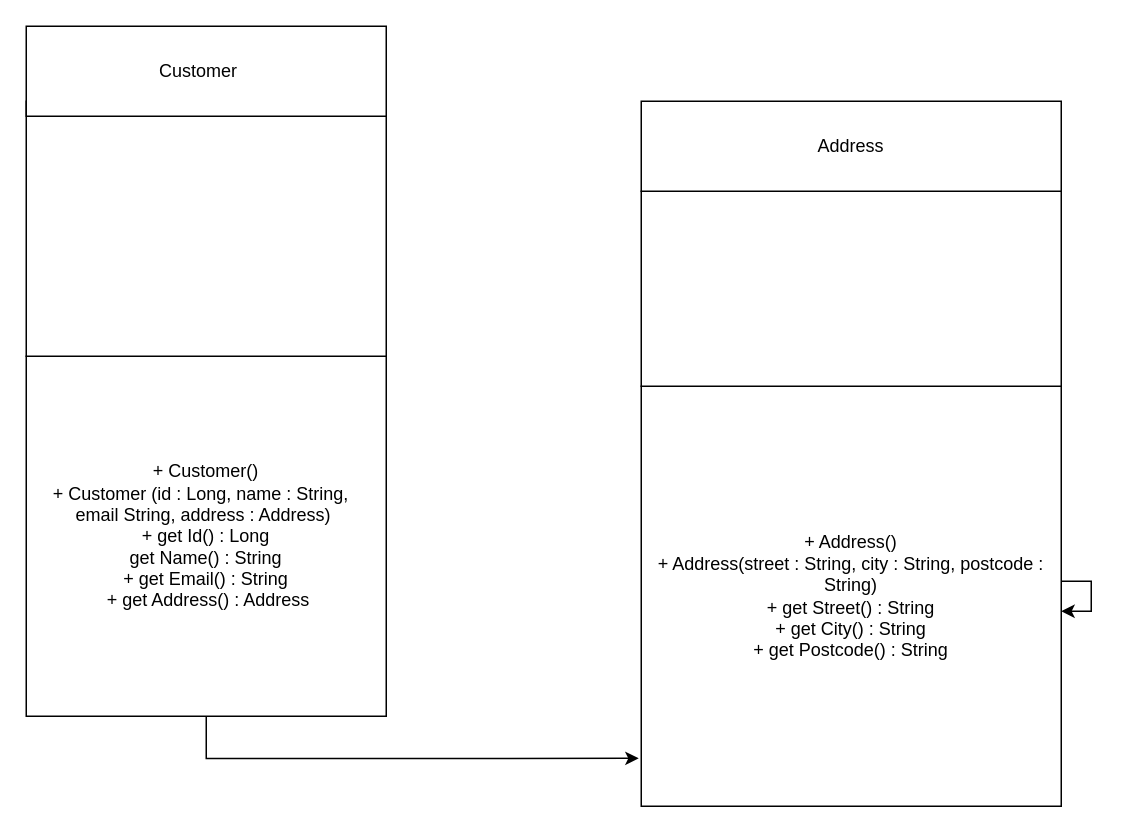
The diagram is 1130 pixels wide and 833 high, and some of its shapes have lost their labels. Each missing label, with the centre of its shape:
"- id : Long - name : String - email : String - address : Address" belongs at [205,228].
"- street : String - city : String - postcode : String" belongs at [850,288].
